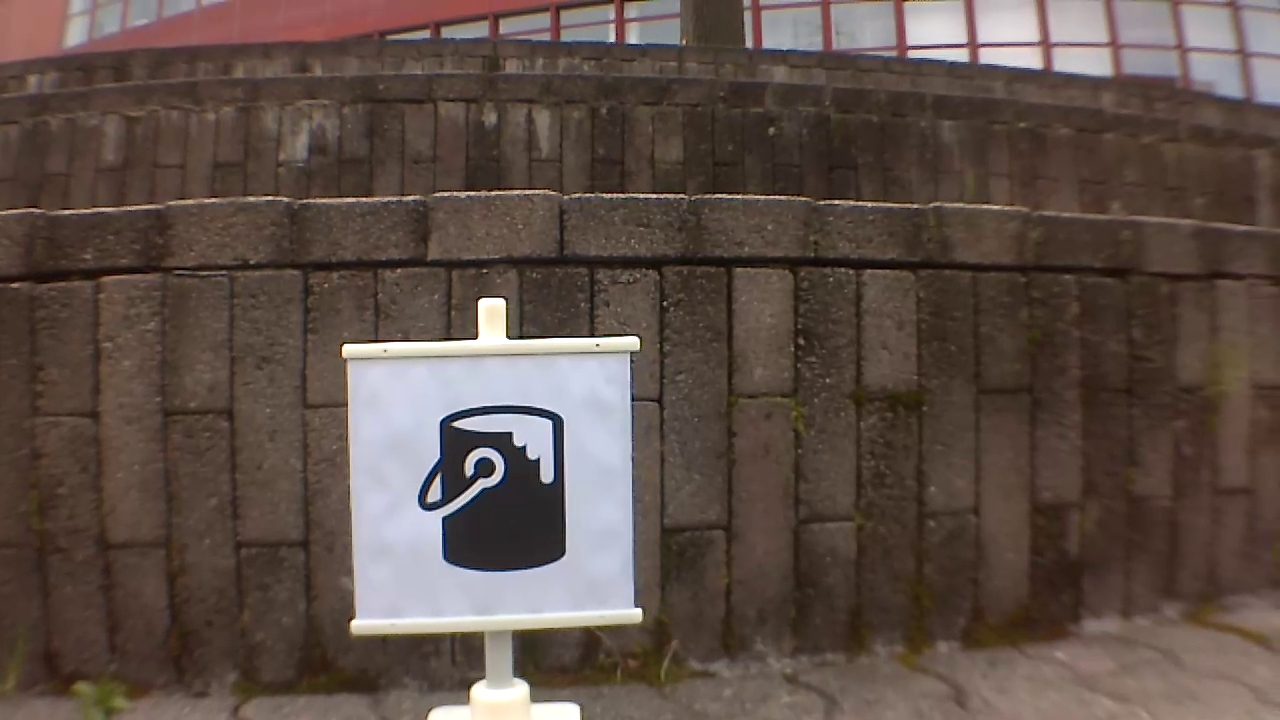bucket: (416, 397, 575, 574)
